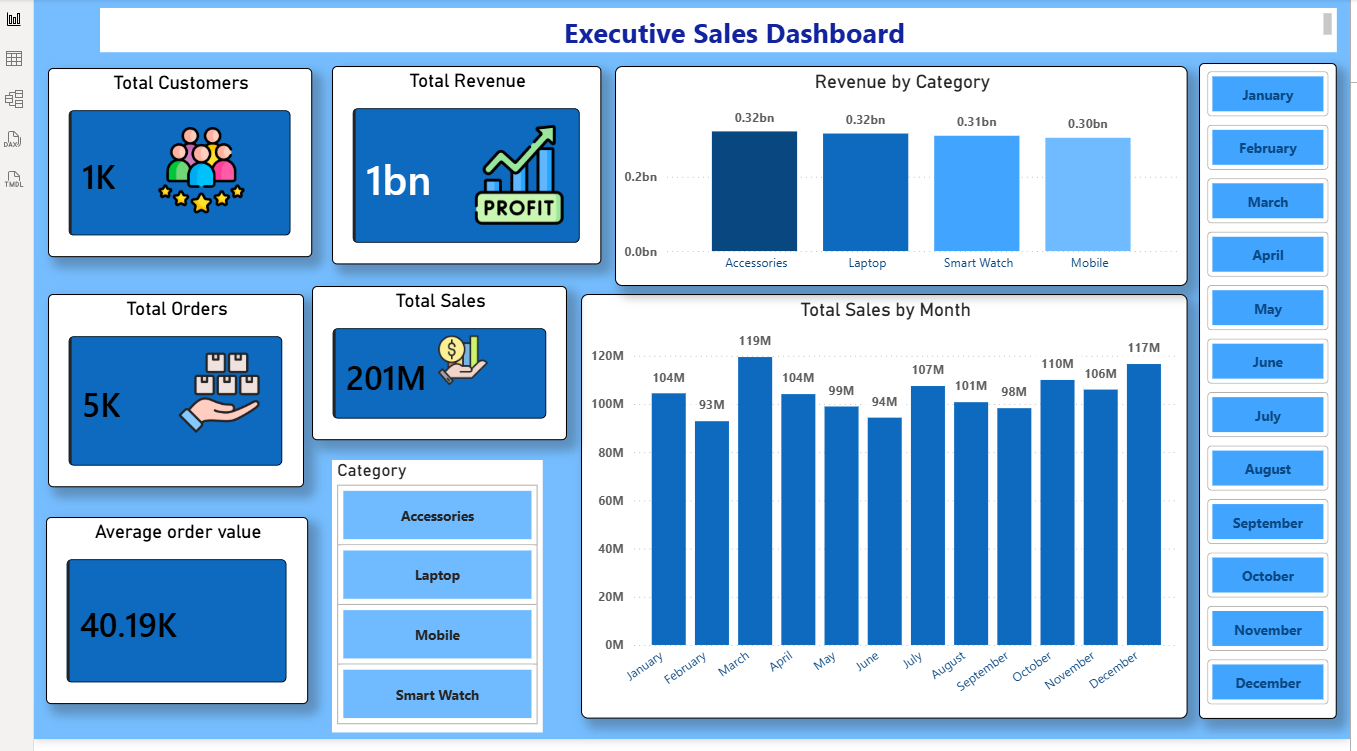

Layout of this report page (visuals, bound fields, positions):
{"tool":"powerbi","page":{"name":"Executive Dashboard","canvas":[1280,720],"ordinal":0},"visuals":[{"type":"cardVisual","title":"Total Revenue","fields":{"Data":["Order Items.Revenue"]},"box":[289.8,65.2,261.6,192.6],"z":4,"group":"g4"},{"type":"cardVisual","title":"Total Orders","fields":{"Data":["Orders.Total_Orders"]},"box":[13.6,286.9,249,187.7],"z":5,"group":"g2"},{"type":"cardVisual","title":"Total Customers","fields":{"Data":["Customers.Total_Customers"]},"box":[14,67,256.8,183.8],"z":6,"group":"g1"},{"type":"cardVisual","title":"Average order value","fields":{"Data":["Orders.Average order Value"]},"box":[12,504,254.8,181.9],"z":7,"group":"g3"},{"type":"cardVisual","title":"Total Sales","fields":{"Data":["Orders.Total_Sales"]},"box":[270.4,279.1,248,149.8],"z":9,"group":"g5"},{"type":"group","id":"g1","title":"Group 2","box":[14,67,256.8,183.8],"z":2000},{"type":"image","box":[380.2,325.8,73.6,50.6],"z":2002,"group":"g5"},{"type":"image","box":[114.4,124.7,97.1,84],"z":2004,"group":"g1"},{"type":"image","box":[139.6,325.8,79.9,113.2],"z":2006,"group":"g2"},{"type":"image","box":[411.3,122.5,120.4,96.6],"z":2010,"group":"g4"},{"type":"group","id":"g2","title":"Group 3","box":[13.6,286.9,249,187.7],"z":3000},{"type":"group","id":"g3","title":"Group 4","box":[12,504,254.8,181.9],"z":4000},{"type":"group","id":"g4","title":"Group 5","box":[289.8,65.2,261.6,192.6],"z":5000},{"type":"lineClusteredColumnComboChart","title":"Total Sales by Month","fields":{"Category":["Calendar.Month"],"Y":["Order Items.Revenue"]},"box":[532,286.9,590.4,413.4],"z":6000},{"type":"clusteredColumnChart","fields":{"Category":["Products.Category"],"Y":["Order Items.Revenue"]},"box":[565.1,65.2,557.3,214],"z":7000},{"type":"advancedSlicerVisual","fields":{"Values":["Calendar.Month"]},"box":[1133.1,62.2,134.2,638.1],"z":10000},{"type":"advancedSlicerVisual","fields":{"Values":["Products.Category"]},"box":[289.8,448.4,205.2,264.6],"z":13000},{"type":"textbox","box":[64.2,8.8,1203.2,42.8],"z":14000},{"type":"group","id":"g5","title":"Group 6","box":[270.4,279.1,248,149.8],"z":14001}]}

Visuals, with their boxes in screenshot pixels (x1, y1, x2, y2):
"Total Revenue" cardVisual: {"left": 327, "top": 64, "right": 597, "bottom": 262}
"Total Orders" cardVisual: {"left": 42, "top": 292, "right": 299, "bottom": 486}
"Total Customers" cardVisual: {"left": 43, "top": 66, "right": 307, "bottom": 255}
"Average order value" cardVisual: {"left": 41, "top": 516, "right": 303, "bottom": 704}
"Total Sales" cardVisual: {"left": 307, "top": 284, "right": 563, "bottom": 439}
"Group 2" group: {"left": 43, "top": 66, "right": 307, "bottom": 255}
image: {"left": 420, "top": 332, "right": 496, "bottom": 385}
image: {"left": 146, "top": 125, "right": 246, "bottom": 212}
image: {"left": 172, "top": 332, "right": 255, "bottom": 449}
image: {"left": 452, "top": 123, "right": 576, "bottom": 222}
"Group 3" group: {"left": 42, "top": 292, "right": 299, "bottom": 486}
"Group 4" group: {"left": 41, "top": 516, "right": 303, "bottom": 704}
"Group 5" group: {"left": 327, "top": 64, "right": 597, "bottom": 262}
"Total Sales by Month" lineClusteredColumnComboChart: {"left": 577, "top": 292, "right": 1185, "bottom": 718}
clusteredColumnChart - Products.Category x Order Items.Revenue: {"left": 611, "top": 64, "right": 1185, "bottom": 284}
advancedSlicerVisual - Calendar.Month: {"left": 1196, "top": 61, "right": 1335, "bottom": 718}
advancedSlicerVisual - Products.Category: {"left": 327, "top": 459, "right": 539, "bottom": 732}
textbox: {"left": 94, "top": 6, "right": 1335, "bottom": 50}
"Group 6" group: {"left": 307, "top": 284, "right": 563, "bottom": 439}
